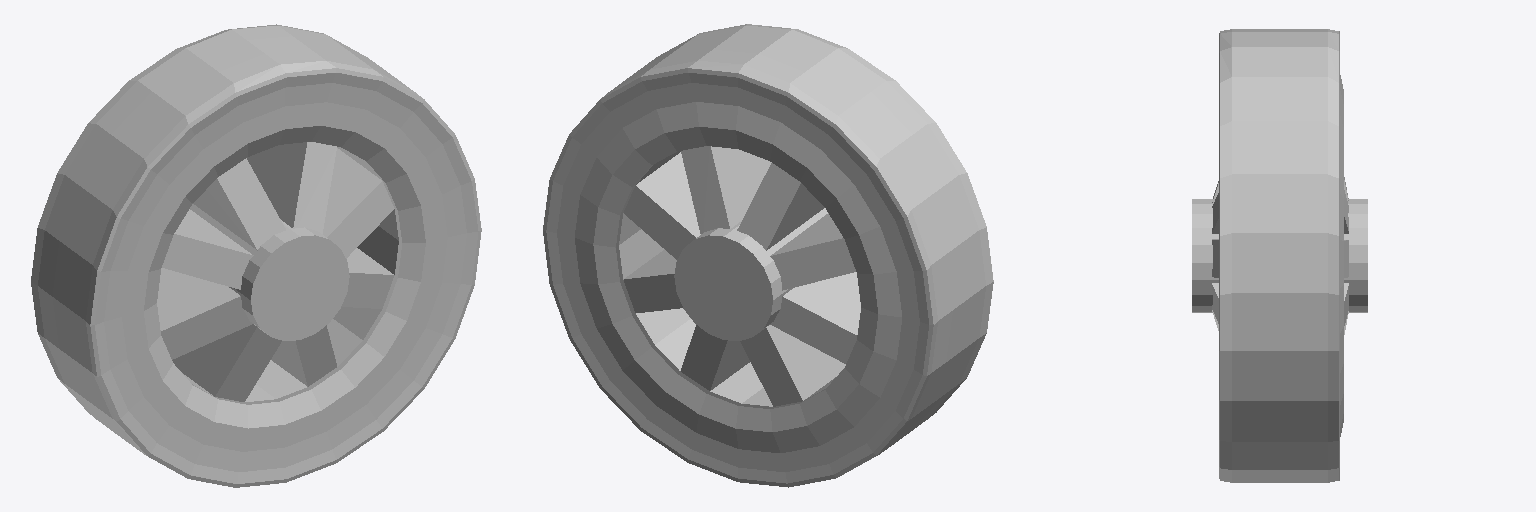
The model's file is Wheel and Tire.obj.
The picture shows the model from 3 angles: view 1: azimuth 30°, elevation 25°; view 2: azimuth 150°, elevation 25°; view 3: azimuth 270°, elevation 25°; orthographic projection.
Visible parts, largest first — view 1: TireMesh polySurface1 loftedSurface2, Wheel; view 2: TireMesh polySurface1 loftedSurface2, Wheel; view 3: TireMesh polySurface1 loftedSurface2, Wheel.
Part boxes in pixels (x1,y1,x2,y2): TireMesh polySurface1 loftedSurface2: (31, 24, 481, 487); Wheel: (157, 142, 401, 404); TireMesh polySurface1 loftedSurface2: (543, 24, 993, 487); Wheel: (616, 146, 860, 408); TireMesh polySurface1 loftedSurface2: (1219, 29, 1343, 482); Wheel: (1192, 177, 1367, 334).
Size of the model in its own units: 4.79 by 4.89 by 1.87.